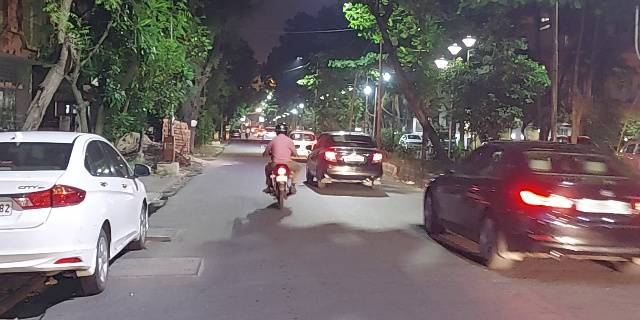Car: (423, 140, 639, 272), (304, 132, 384, 189)
Motorbike: (262, 125, 299, 209)
